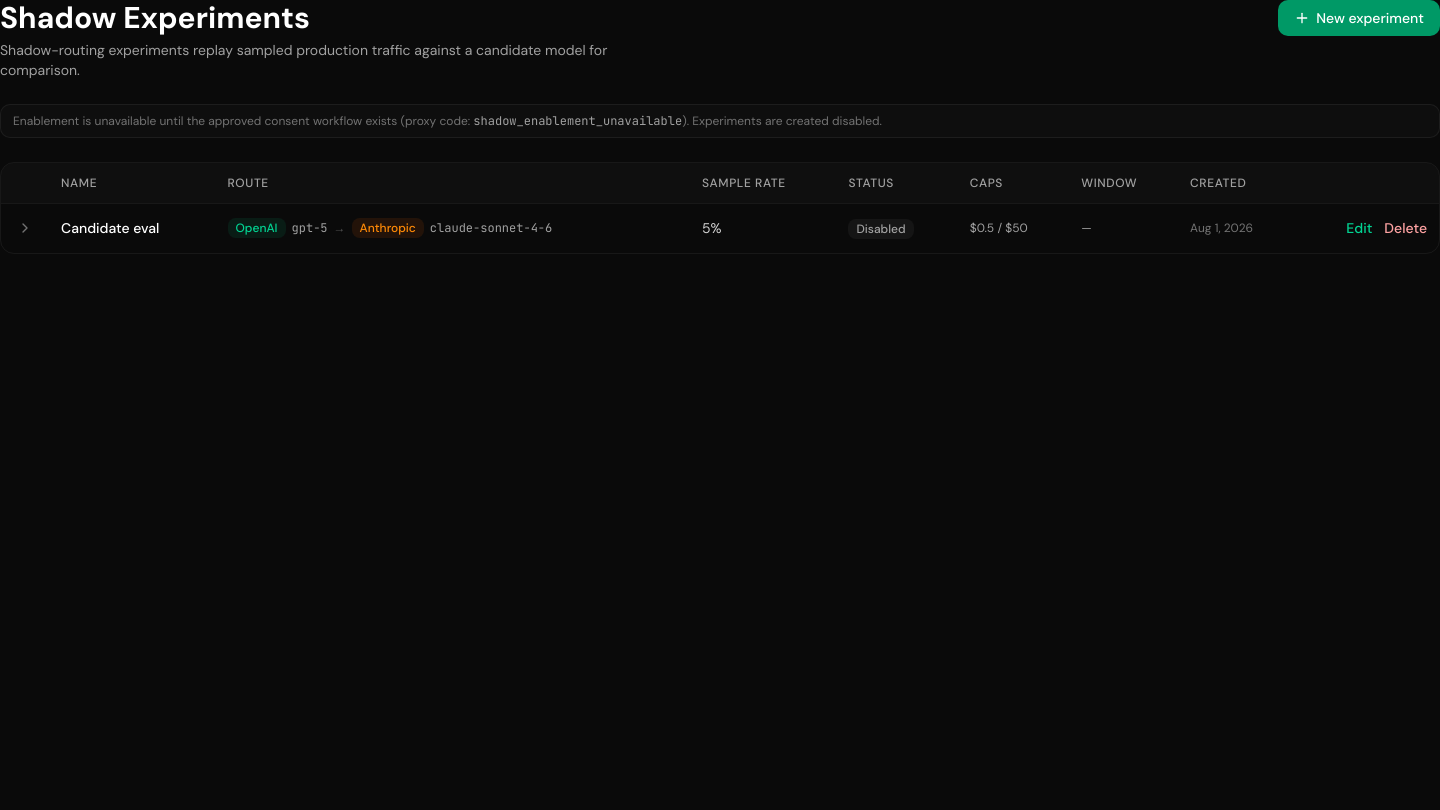
Test: ShadowExperimentsClient proxy states › keeps the dialog open and shows the code when the delete route answers 502 with an envelope
This screenshot has width=1440, height=810.
Expected: the text "Candidate eval" is shown, [49,203,216,252]
What coordinates should you click on to do the following:
click the button with aria-label "Delete Candidate eval"
I would click on:
 (1406, 228)
Its box is [1384,218,1427,238].
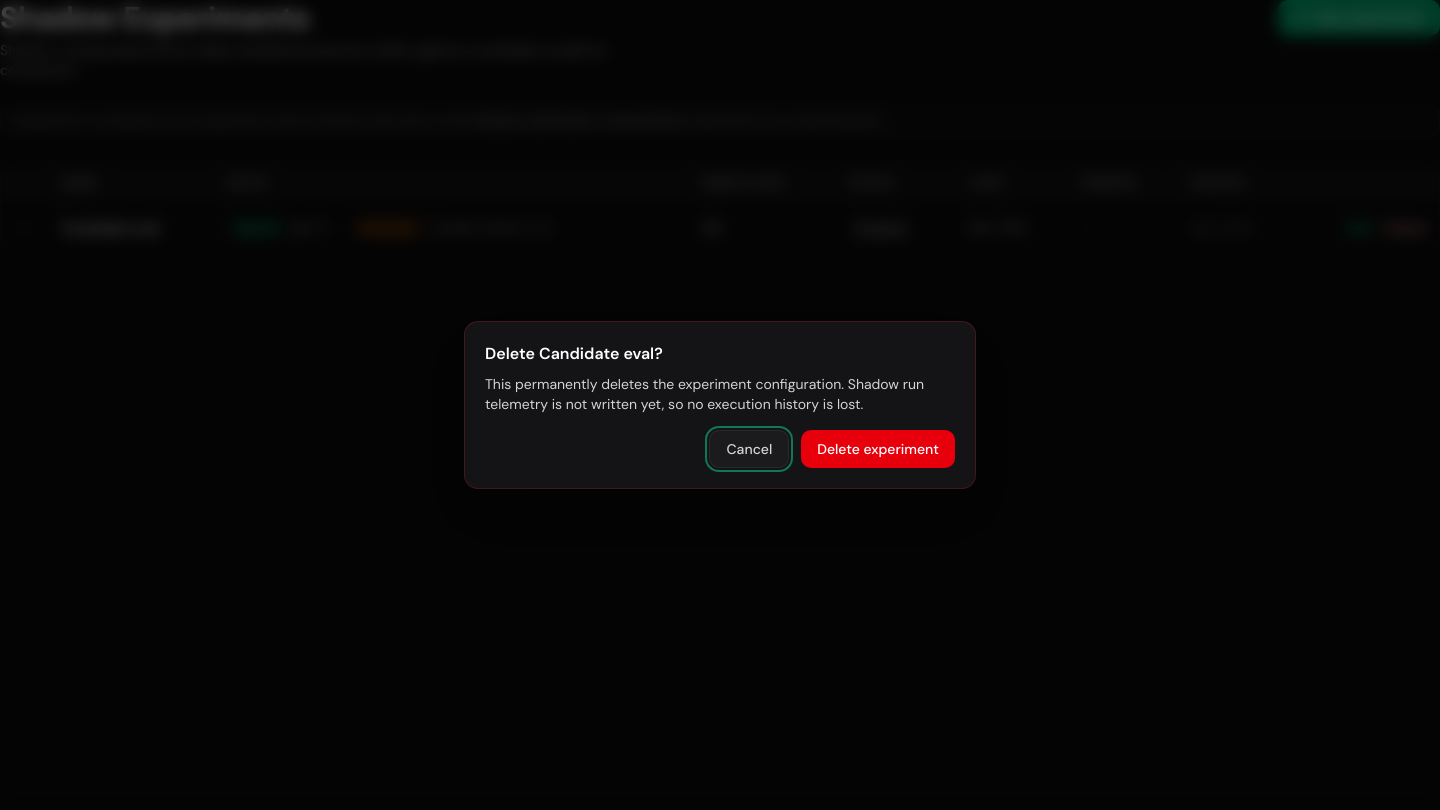
Expected: the dialog is shown, [464,321,976,489]
What coordinates should you click on to do the following:
click the button with aria-label "Confirm delete Candidate eval"
I would click on:
 (878, 449)
Its box is [801,430,955,468].
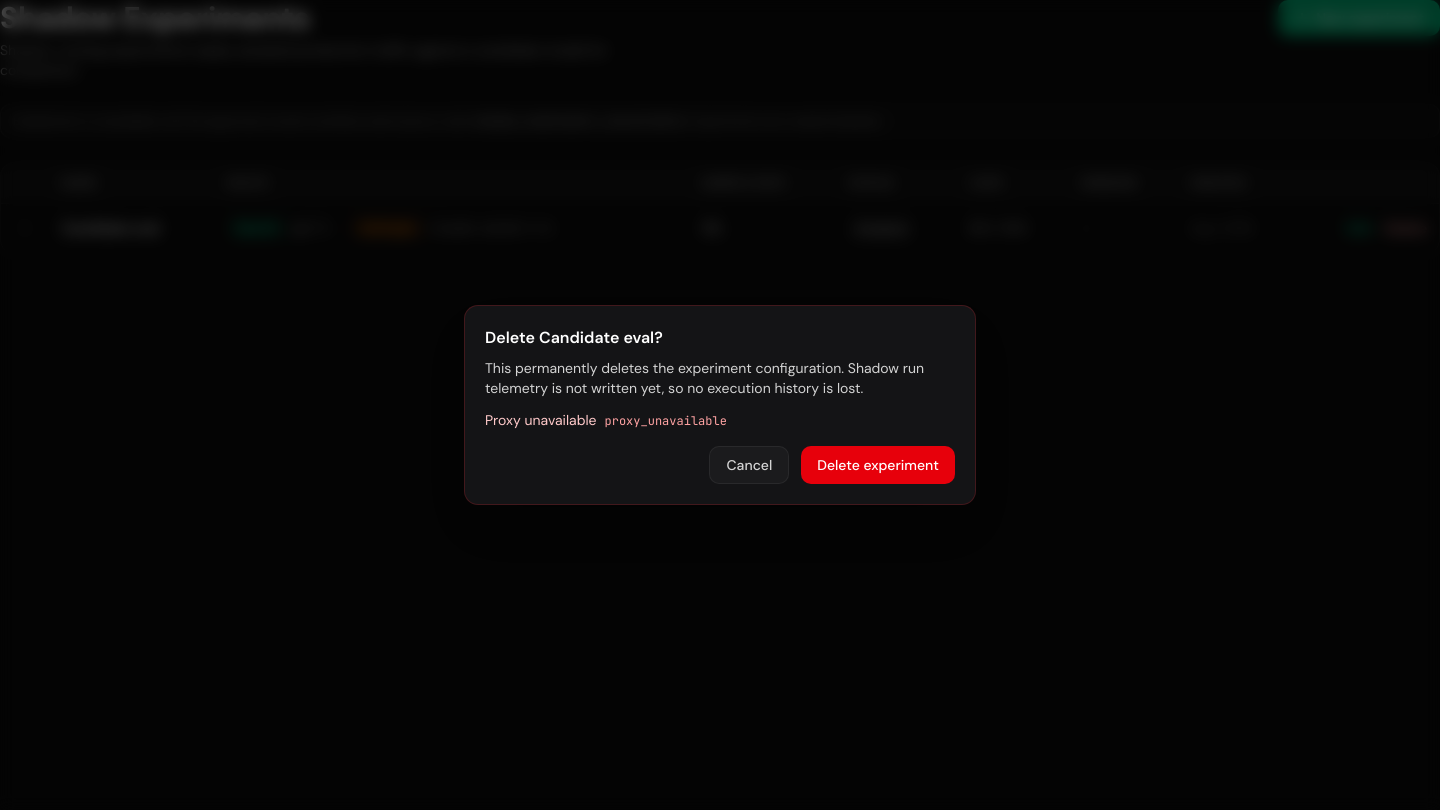
Expected: the dialog is shown, [464,305,976,505]
Expected: the text "Proxy unavailable" is shown, [485,411,596,429]
Expected: the text "proxy_unavailable" is shown, [604,413,727,429]
